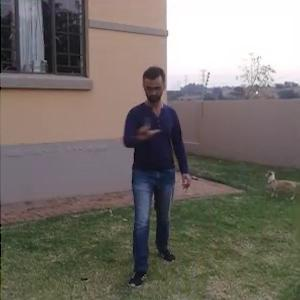land_hand: (132, 110, 163, 143)
